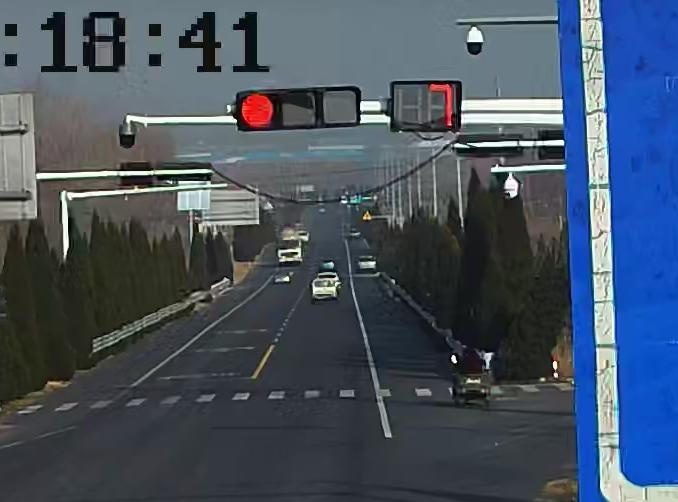red: (240, 93, 276, 130)
redtime: (423, 81, 457, 127)
